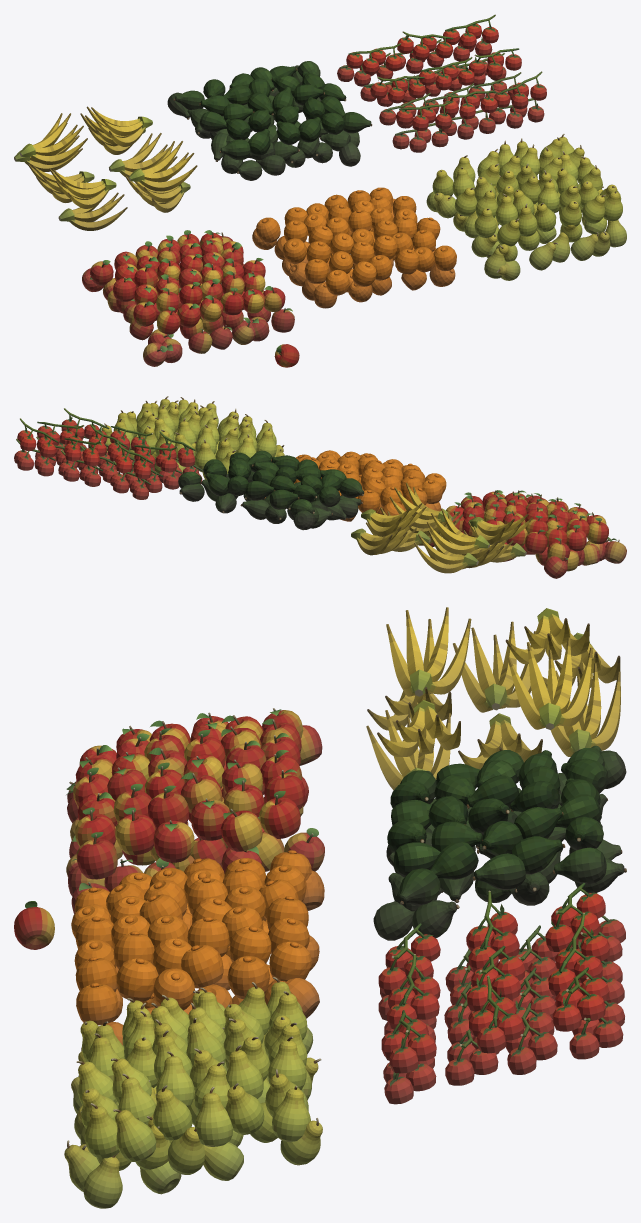
File: gs-fill-produce.glb
The picture shows the model from 3 angles, top to bottom: view 1: azimuth 30°, elevation 25°; view 2: azimuth 150°, elevation 25°; view 3: azimuth 270°, elevation 25°; orthographic projection. The views are drawn at different scales.
Parts seen in each view (by area): view 1: gs_fill_produce; view 2: gs_fill_produce; view 3: gs_fill_produce.
Boxes of the visible parts, x1=… form: gs_fill_produce: x1=14, y1=14, x2=626, y2=367; gs_fill_produce: x1=14, y1=396, x2=626, y2=578; gs_fill_produce: x1=14, y1=607, x2=626, y2=1208.
Size of the model in its own units: 1.9 by 0.5823 by 1.18.
